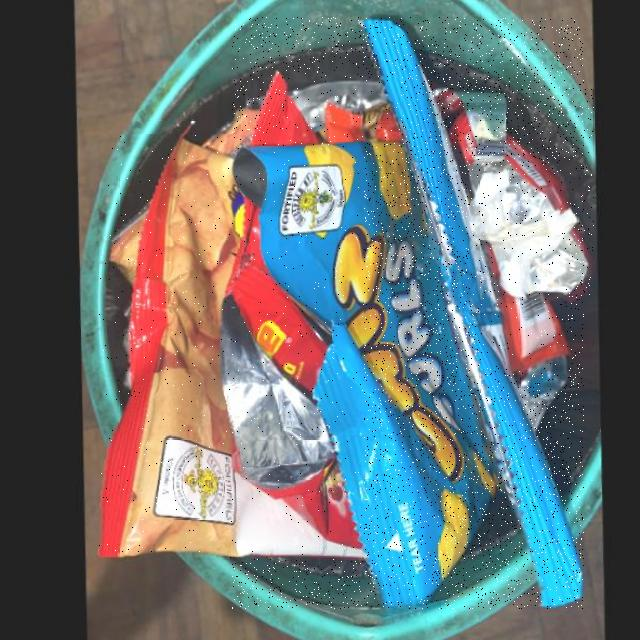paper: (470, 167, 578, 297)
wrapper: (232, 17, 584, 609), (99, 135, 364, 559), (448, 89, 594, 297), (480, 238, 569, 373), (288, 79, 402, 142), (247, 69, 321, 146)
